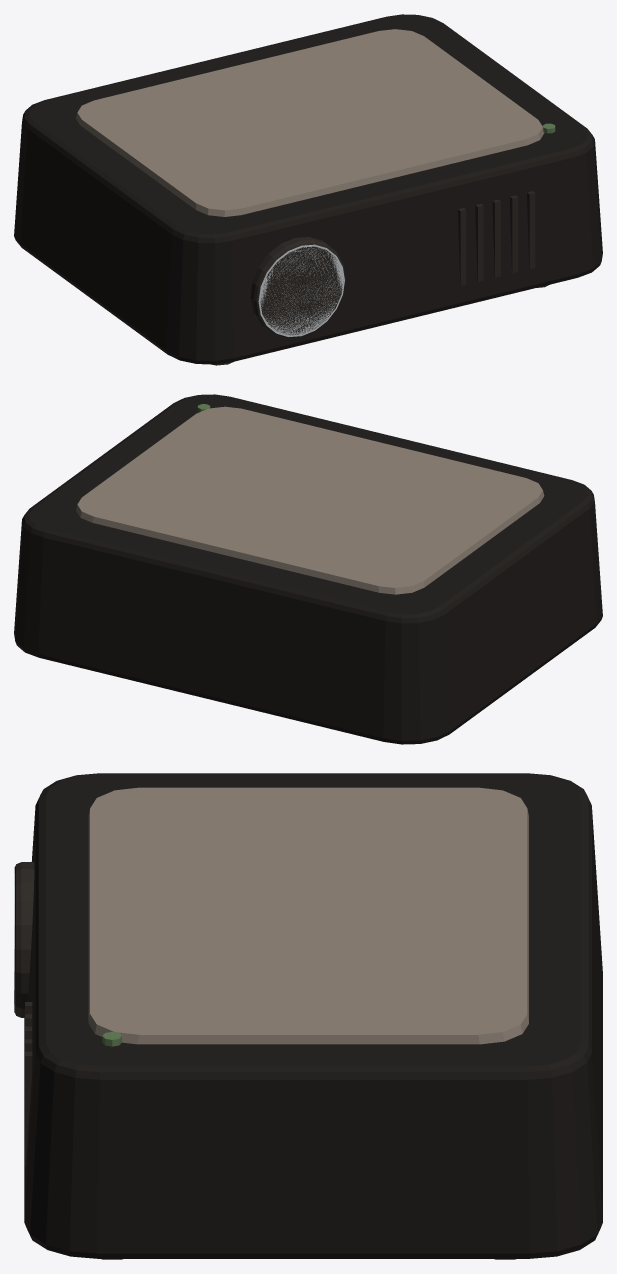
File: hh_cat_projector.glb
The picture shows the model from 3 angles, top to bottom: view 1: azimuth 30°, elevation 25°; view 2: azimuth 150°, elevation 25°; view 3: azimuth 270°, elevation 25°; orthographic projection. The views are drawn at different scales.
Parts seen in each view (by area): view 1: projector_body, top_panel, lens, focus_ring, vent, vent.004, vent.001, vent.002, vent.003; view 2: projector_body, top_panel; view 3: projector_body, top_panel, lens.
Boxes of the visible parts, bbox=[...] form: projector_body: bbox=[14, 14, 602, 364]; top_panel: bbox=[76, 29, 544, 216]; lens: bbox=[250, 237, 345, 338]; focus_ring: bbox=[258, 244, 344, 337]; vent: bbox=[458, 208, 466, 286]; vent.004: bbox=[527, 191, 535, 269]; vent.001: bbox=[475, 204, 483, 281]; vent.002: bbox=[492, 199, 500, 277]; vent.003: bbox=[510, 195, 517, 273]; projector_body: bbox=[14, 394, 602, 744]; top_panel: bbox=[76, 406, 544, 594]; projector_body: bbox=[24, 773, 602, 1258]; top_panel: bbox=[88, 787, 528, 1044]; lens: bbox=[15, 862, 34, 1017].
Bounding box in the file's own units: 0.3 × 0.1 × 0.24.
